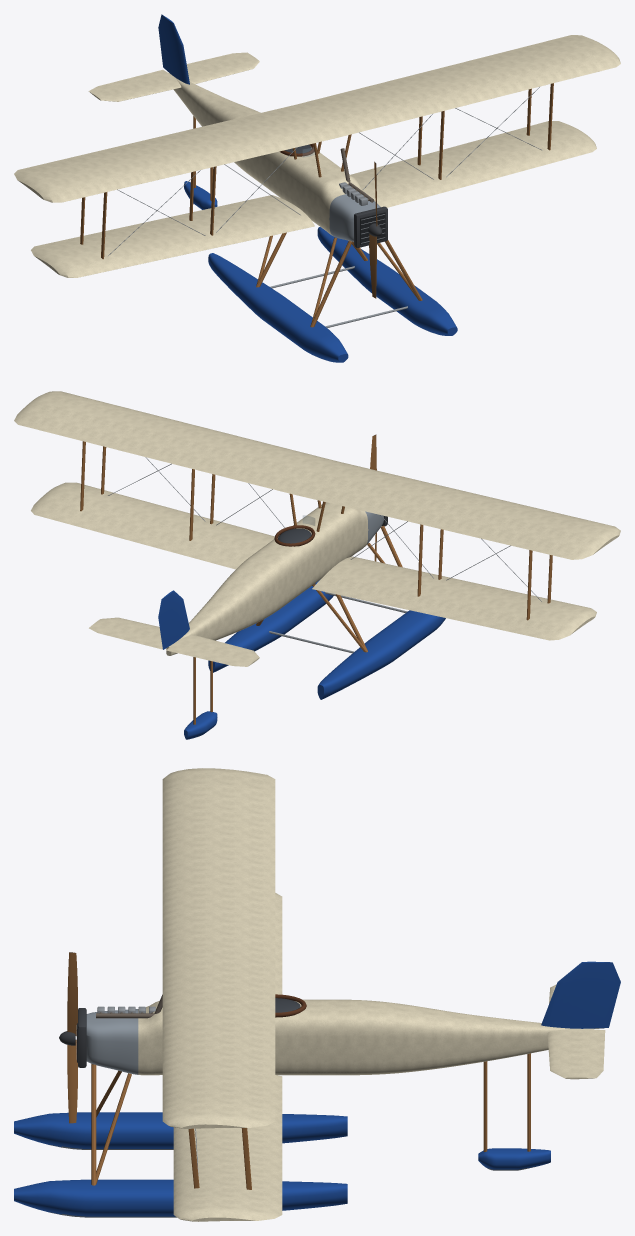
File: early-seaplane.glb
3 renders of one model, top to bottom at view 1: azimuth 30°, elevation 25°; view 2: azimuth 150°, elevation 25°; view 3: azimuth 270°, elevation 25°, orthographic. The views are drawn at different scales.
Visible parts, largest first — view 1: Early_Seaplane, Propeller; view 2: Early_Seaplane; view 3: Early_Seaplane, Propeller.
Part boxes in pixels (x1,y1,x2,y2): Early_Seaplane: (14, 14, 620, 362); Propeller: (368, 161, 382, 298); Early_Seaplane: (14, 391, 620, 739); Early_Seaplane: (14, 768, 620, 1221); Propeller: (59, 952, 77, 1123).
Size of the model in its own units: 11.6 by 3.68 by 8.37.
13 materials, 1 textured.
